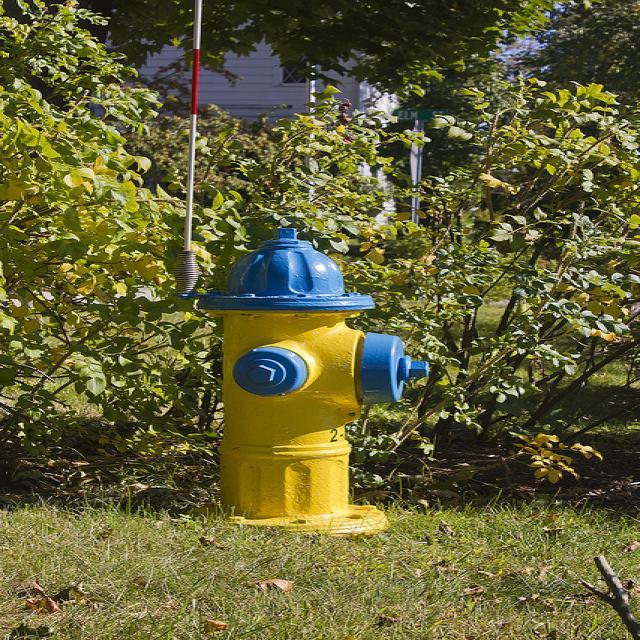fire_hydrant: (186, 225, 427, 534)
